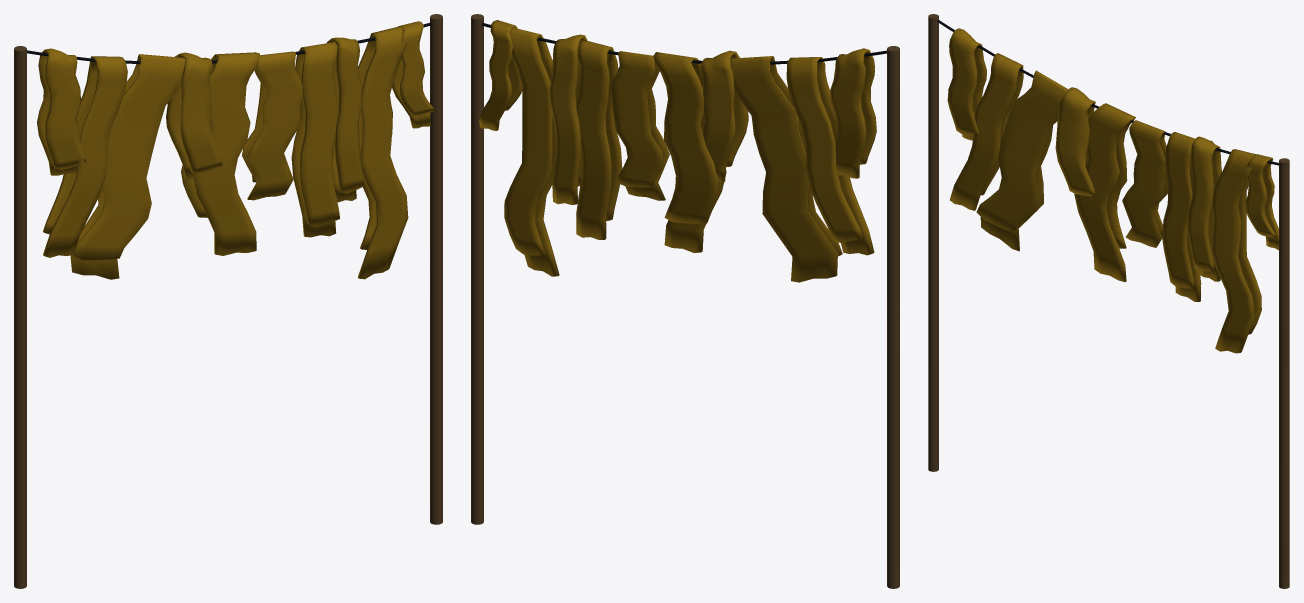
Rendered from KelpDryingRack.fbx.
3 renders of one model, left to right at view 1: azimuth 30°, elevation 25°; view 2: azimuth 150°, elevation 25°; view 3: azimuth 330°, elevation 25°, orthographic. The views are drawn at different scales.
Parts seen in each view (by area): view 1: Kelp009, Kelp006, Kelp008, Kelp007, Kelp012, Cylinder286, Cylinder287, Kelp011, Kelp010, Kelp013, Kelp014, Kelp015; view 2: Kelp009, Kelp006, Kelp008, Kelp012, Kelp007, Cylinder286, Cylinder287, Kelp011, Kelp010, Kelp014, Kelp013, Kelp015; view 3: Kelp009, Kelp006, Kelp008, Cylinder286, Kelp012, Cylinder287, Kelp007, Kelp011, Kelp014, Kelp010, Kelp013, Kelp015.
Part boxes in pixels (bbox=[...]): Kelp009: bbox=[70, 54, 185, 279]; Kelp006: bbox=[357, 27, 408, 279]; Kelp008: bbox=[181, 52, 259, 255]; Kelp007: bbox=[291, 42, 339, 237]; Kelp012: bbox=[43, 56, 127, 257]; Cylinder286: bbox=[14, 46, 26, 588]; Cylinder287: bbox=[430, 14, 442, 524]; Kelp011: bbox=[242, 51, 302, 200]; Kelp010: bbox=[37, 48, 86, 175]; Kelp013: bbox=[166, 52, 222, 179]; Kelp014: bbox=[327, 37, 363, 202]; Kelp015: bbox=[392, 21, 435, 128]; Kelp009: bbox=[730, 56, 842, 282]; Kelp006: bbox=[504, 27, 559, 276]; Kelp008: bbox=[653, 52, 726, 252]; Kelp012: bbox=[786, 57, 874, 255]; Kelp007: bbox=[576, 40, 622, 239]; Cylinder286: bbox=[887, 46, 899, 588]; Cylinder287: bbox=[471, 14, 483, 524]; Kelp011: bbox=[611, 51, 669, 200]; Kelp010: bbox=[830, 48, 876, 178]; Kelp014: bbox=[549, 34, 587, 204]; Kelp013: bbox=[701, 50, 748, 182]; Kelp015: bbox=[479, 20, 522, 130]; Kelp009: bbox=[976, 70, 1068, 251]; Kelp006: bbox=[1211, 149, 1261, 353]; Kelp008: bbox=[1074, 103, 1135, 281]; Cylinder286: bbox=[928, 14, 938, 471]; Kelp012: bbox=[950, 53, 1023, 210]; Cylinder287: bbox=[1279, 158, 1289, 588]; Kelp007: bbox=[1162, 132, 1201, 301]; Kelp011: bbox=[1122, 120, 1168, 247]; Kelp014: bbox=[1187, 136, 1221, 281]; Kelp010: bbox=[947, 28, 986, 140]; Kelp013: bbox=[1055, 87, 1095, 196]; Kelp015: bbox=[1245, 154, 1278, 250].
Bounding box in the file's own units: 162 × 208 × 10.5.
